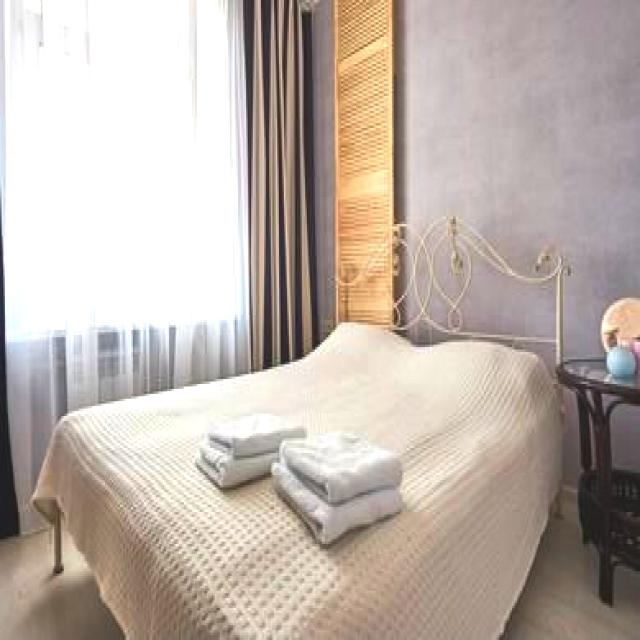bed: (47, 310, 559, 640)
